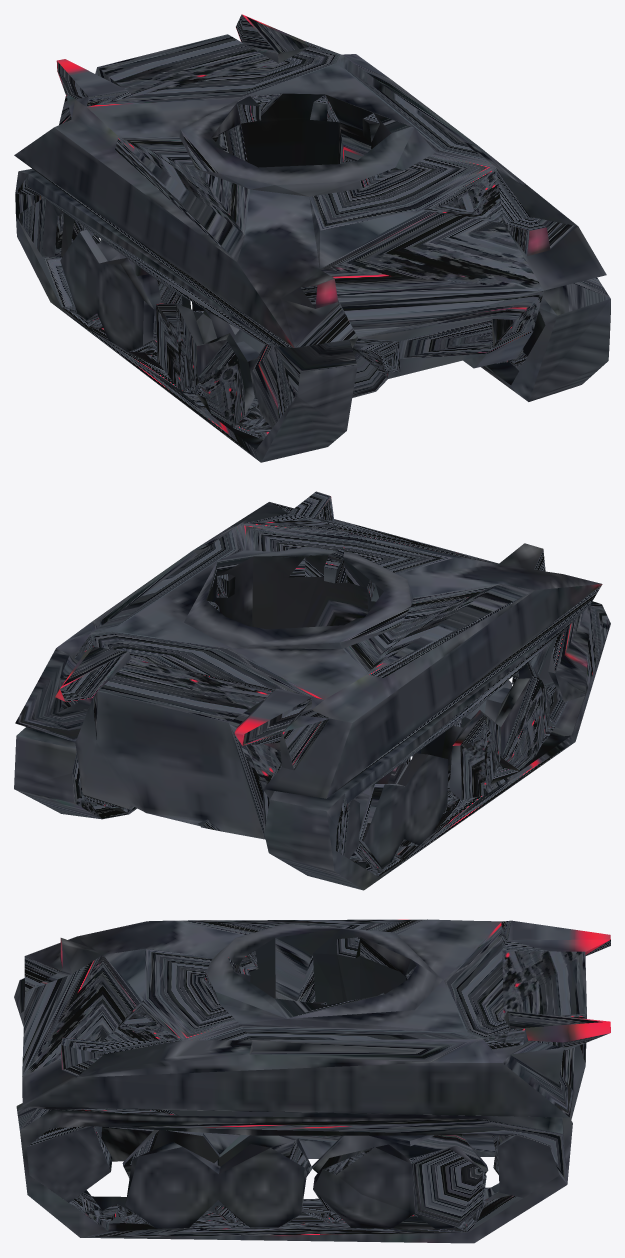
Rendered from hull-s10.glb.
3 renders of one model, top to bottom at view 1: azimuth 30°, elevation 25°; view 2: azimuth 150°, elevation 25°; view 3: azimuth 270°, elevation 25°, orthographic. The views are drawn at different scales.
Parts seen in each view (by area): view 1: 9ea61622-a94c-4b6b-8ea4-258bbf757e43_texturing.obj; view 2: 9ea61622-a94c-4b6b-8ea4-258bbf757e43_texturing.obj; view 3: 9ea61622-a94c-4b6b-8ea4-258bbf757e43_texturing.obj.
Boxes of the visible parts, left/top/right/bottom form: 9ea61622-a94c-4b6b-8ea4-258bbf757e43_texturing.obj: left=14, top=14, right=610, bottom=462; 9ea61622-a94c-4b6b-8ea4-258bbf757e43_texturing.obj: left=14, top=491, right=610, bottom=890; 9ea61622-a94c-4b6b-8ea4-258bbf757e43_texturing.obj: left=14, top=919, right=610, bottom=1243.
Bounding box in the file's own units: 1.2 × 0.7665 × 1.97.
1 material, 1 textured.
